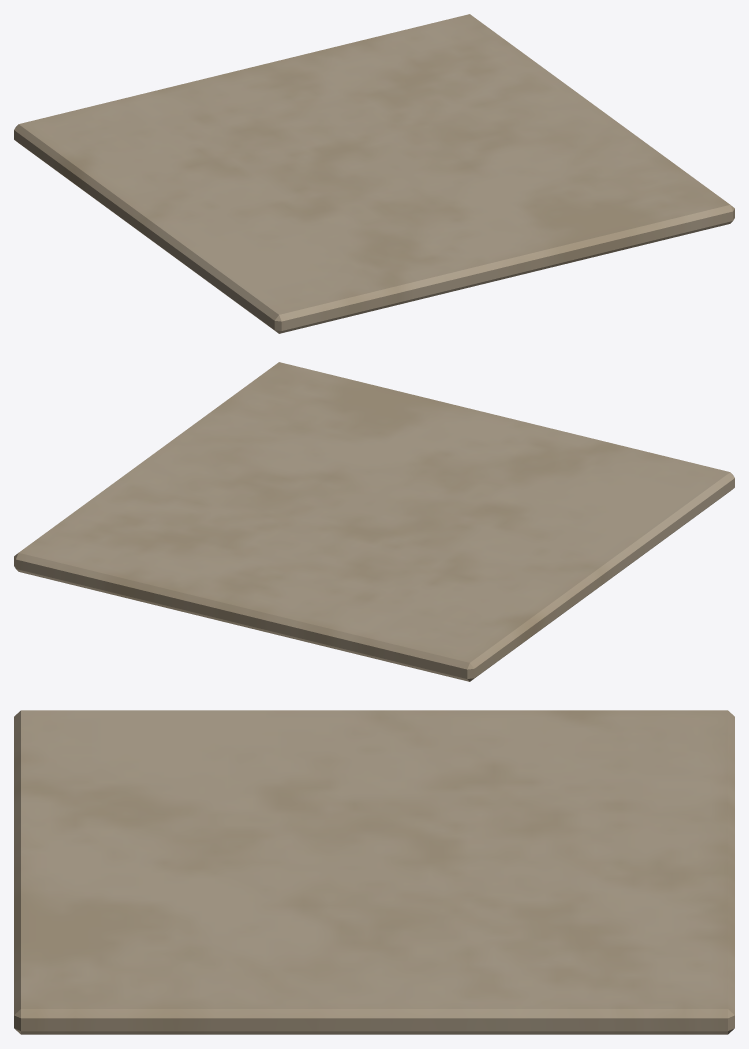
Rendered from Mesh_Tile_01.fbx.
3 renders of one model, top to bottom at view 1: azimuth 30°, elevation 25°; view 2: azimuth 150°, elevation 25°; view 3: azimuth 270°, elevation 25°, orthographic. The views are drawn at different scales.
Parts seen in each view (by area): view 1: Tile_01; view 2: Tile_01; view 3: Tile_01.
Part boxes in pixels (x1=…): Tile_01: x1=14, y1=14, x2=734, y2=333; Tile_01: x1=14, y1=362, x2=734, y2=681; Tile_01: x1=14, y1=710, x2=734, y2=1034.
Size of the model in its own units: 48.44 by 1.92 by 48.44.
1 material, 1 textured.
